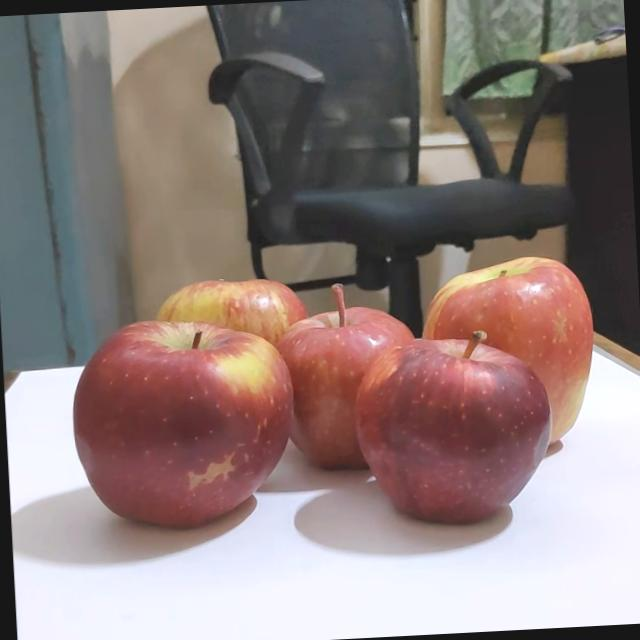apple: (63, 312, 303, 535), (348, 334, 552, 526), (424, 251, 604, 459), (268, 280, 430, 475), (142, 261, 320, 395)
